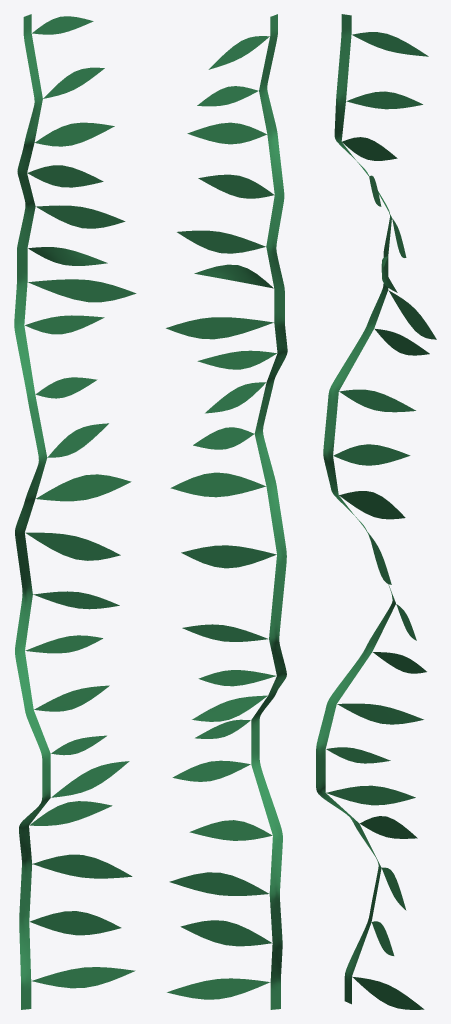
Rendered from seaweed_1.fbx.
The picture shows the model from 3 angles, left to right: view 1: azimuth 30°, elevation 25°; view 2: azimuth 210°, elevation 25°; view 3: azimuth 330°, elevation 25°; orthographic projection.
Visible parts, largest first — view 1: seaweed_1; view 2: seaweed_1; view 3: seaweed_1.
Part boxes in pixels (x1=…): seaweed_1: x1=14, y1=14, x2=136, y2=1009; seaweed_1: x1=166, y1=14, x2=287, y2=1009; seaweed_1: x1=316, y1=14, x2=436, y2=1009.
Bounding box in the file's own units: 244 × 2097 × 191.
